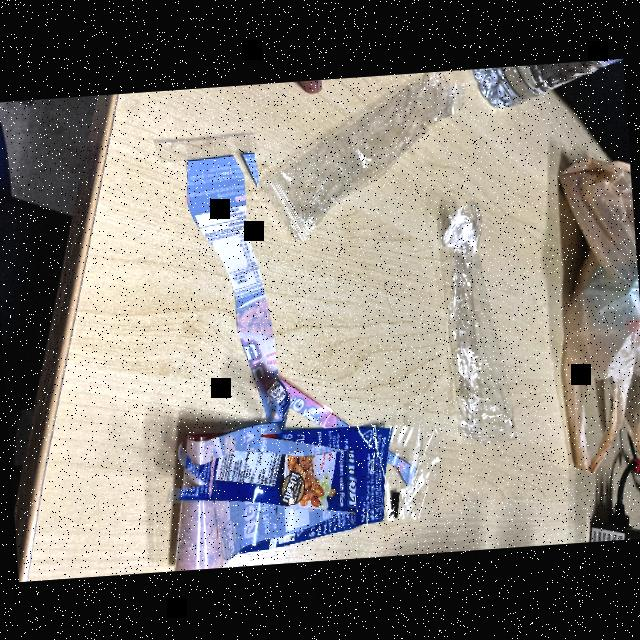scrap_plastic: (150, 376, 438, 572), (249, 70, 469, 274), (408, 179, 544, 463)
